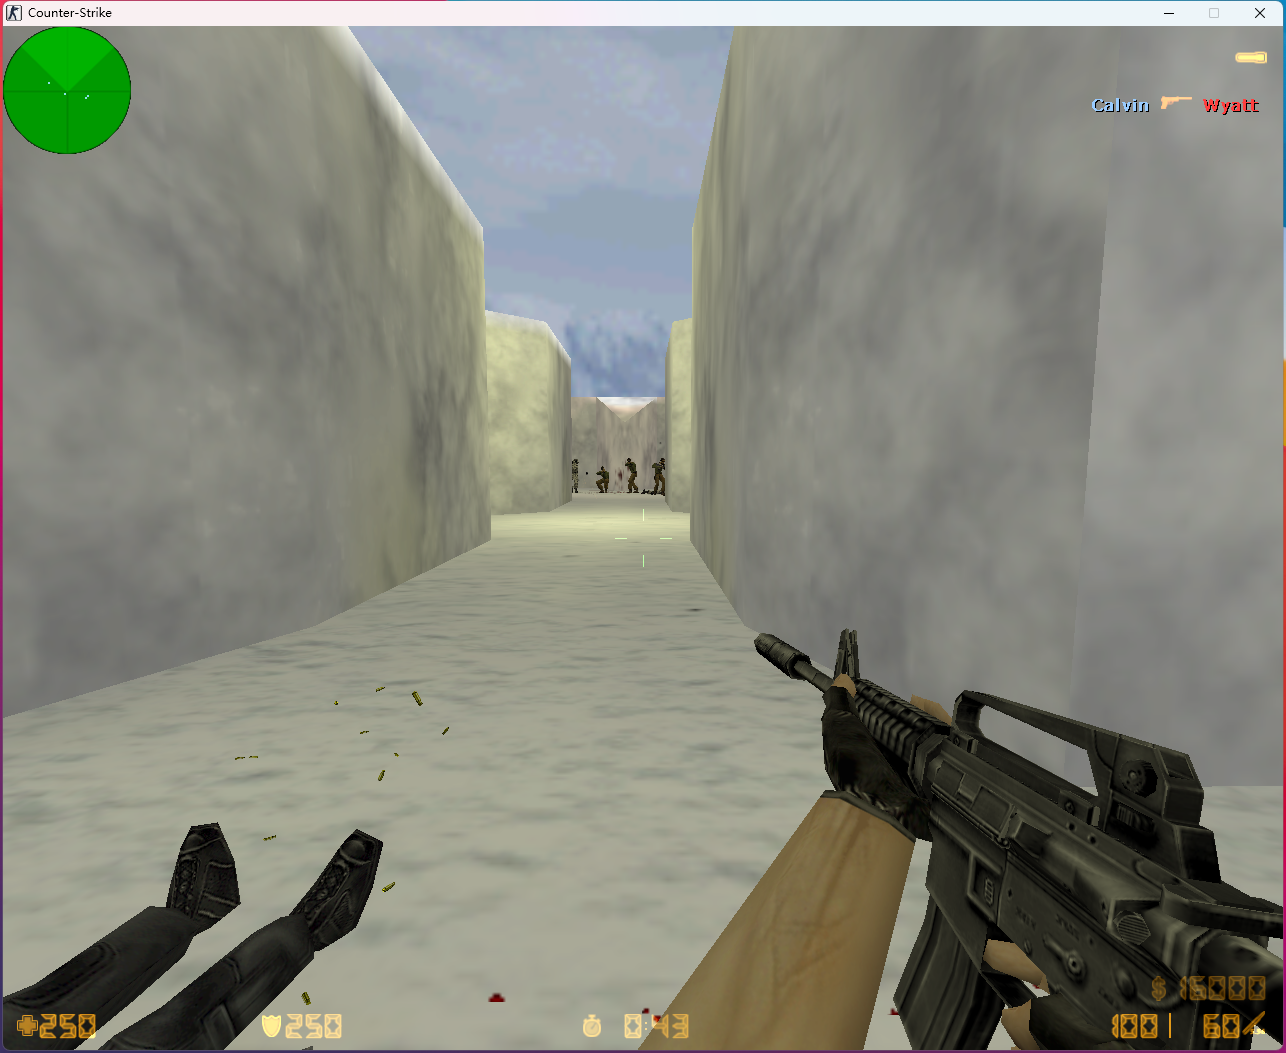T: (650, 455, 665, 496), (624, 457, 639, 492), (594, 468, 610, 492), (571, 456, 581, 493)
